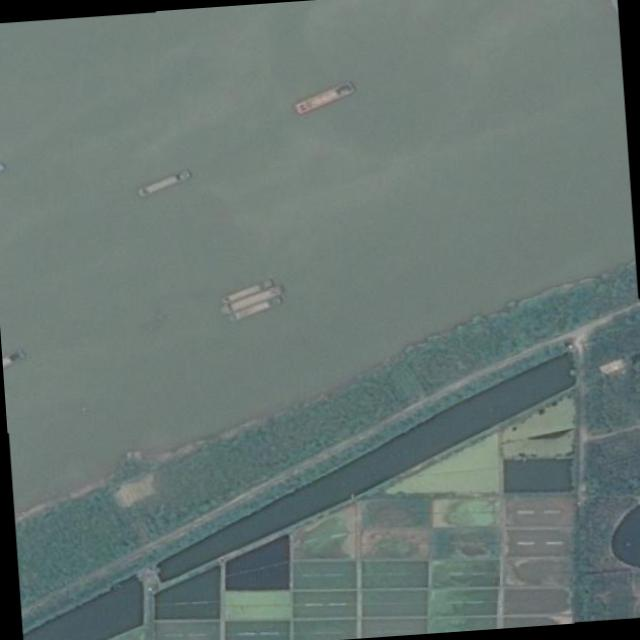ship: (296, 80, 357, 114), (223, 286, 287, 317), (140, 168, 194, 198), (231, 296, 284, 322), (224, 279, 276, 305)
